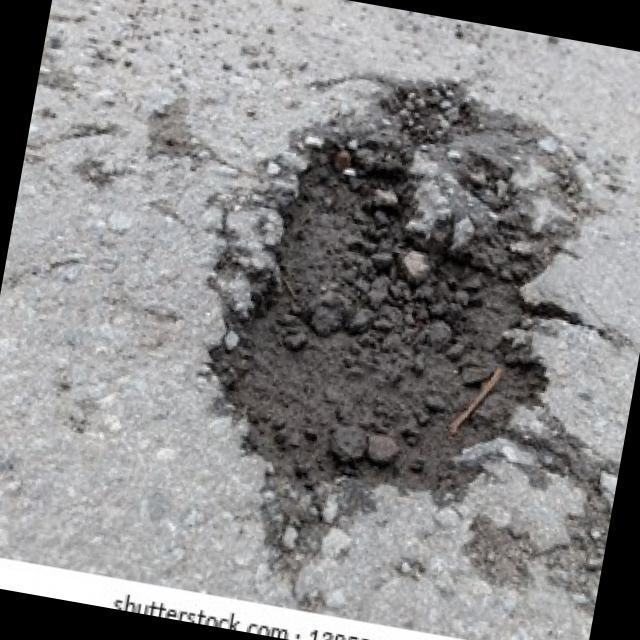Pothole: (170, 56, 605, 541)
